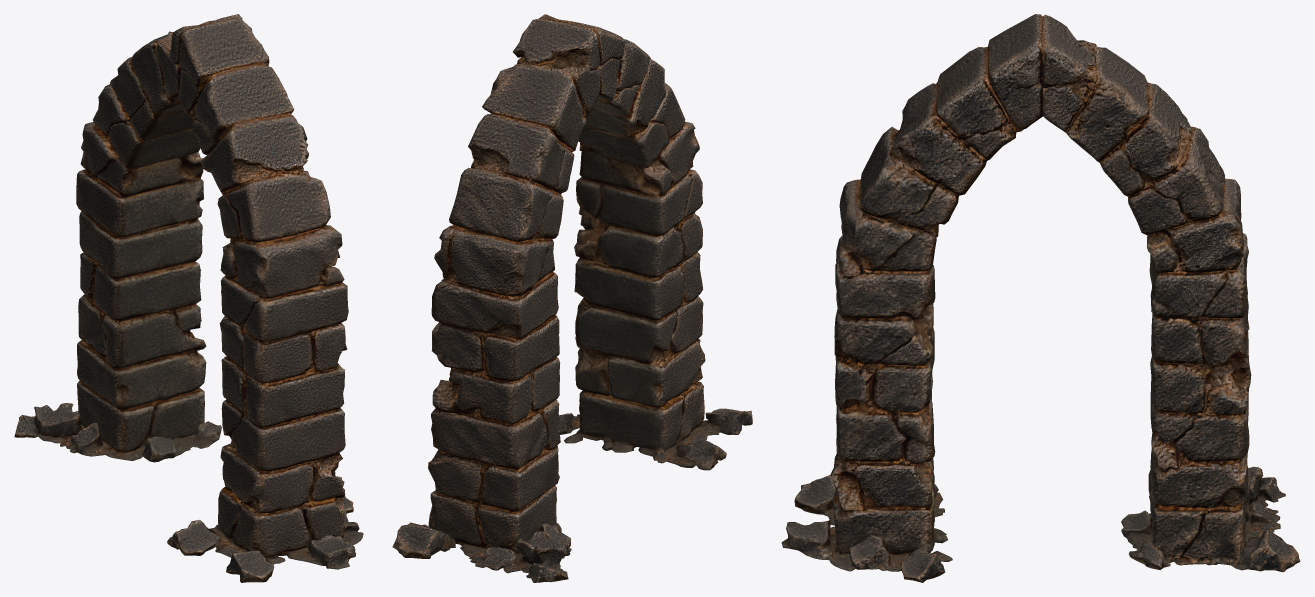
The model's file is arch.glb.
3 renders of one model, left to right at view 1: azimuth 30°, elevation 25°; view 2: azimuth 150°, elevation 25°; view 3: azimuth 270°, elevation 25°, orthographic. The views are drawn at different scales.
Parts seen in each view (by area): view 1: tripo_node_28016327-19c0-4d53-bec6-93978bf8907a; view 2: tripo_node_28016327-19c0-4d53-bec6-93978bf8907a; view 3: tripo_node_28016327-19c0-4d53-bec6-93978bf8907a.
Part boxes in pixels (x1,y1,x2,y2): tripo_node_28016327-19c0-4d53-bec6-93978bf8907a: (14,14,363,582); tripo_node_28016327-19c0-4d53-bec6-93978bf8907a: (392,14,752,582); tripo_node_28016327-19c0-4d53-bec6-93978bf8907a: (781,14,1300,582).
Size of the model in its own units: 0.418 by 1 by 0.9235.
Materials: 1 (1 with a texture image).
